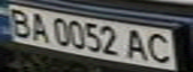0: (48, 15, 72, 47), (66, 18, 84, 51)
2: (100, 24, 124, 57)
5: (81, 20, 103, 54)
A: (124, 27, 151, 62), (24, 10, 51, 43)
B: (3, 6, 33, 38)
C: (142, 30, 175, 64)
